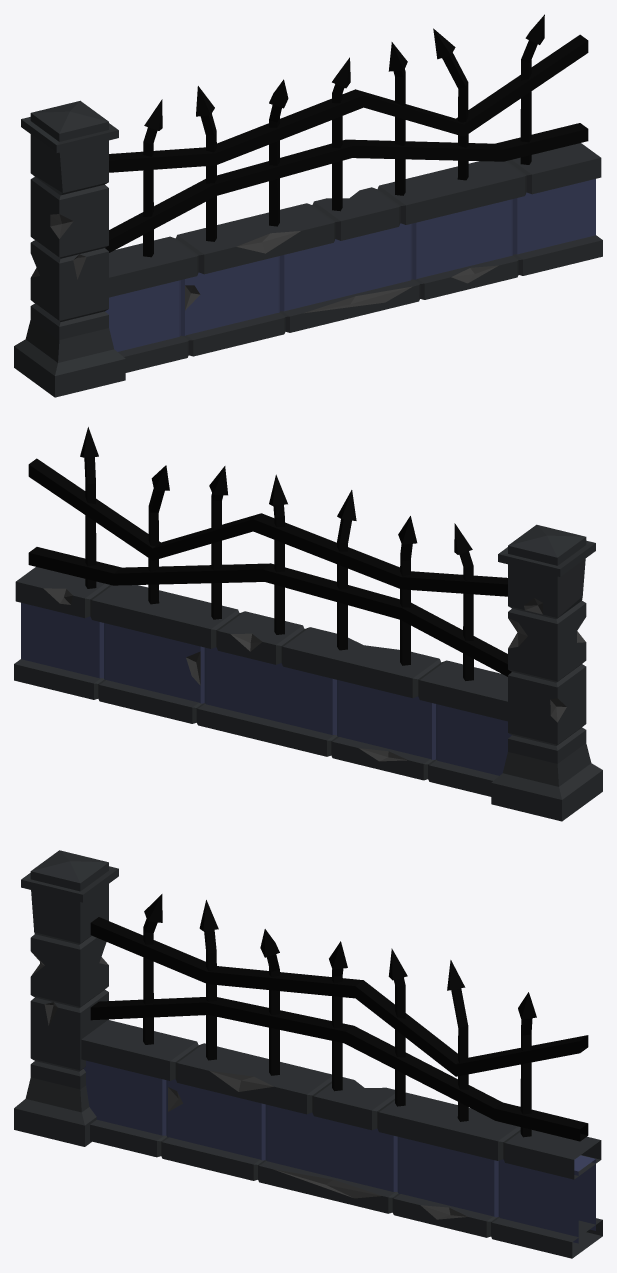
Rendered from GraveyardWall_V02 (2).fbx.
The picture shows the model from 3 angles, top to bottom: view 1: azimuth 30°, elevation 25°; view 2: azimuth 150°, elevation 25°; view 3: azimuth 330°, elevation 25°; orthographic projection.
Parts seen in each view (by area): view 1: Cube; view 2: Cube; view 3: Cube.
Boxes of the visible parts, <box> form: Cube: <box>14,14,602,397</box>; Cube: <box>14,427,602,821</box>; Cube: <box>14,850,602,1258</box>.
Bounding box in the file's own units: 322 × 146 × 41.28.
